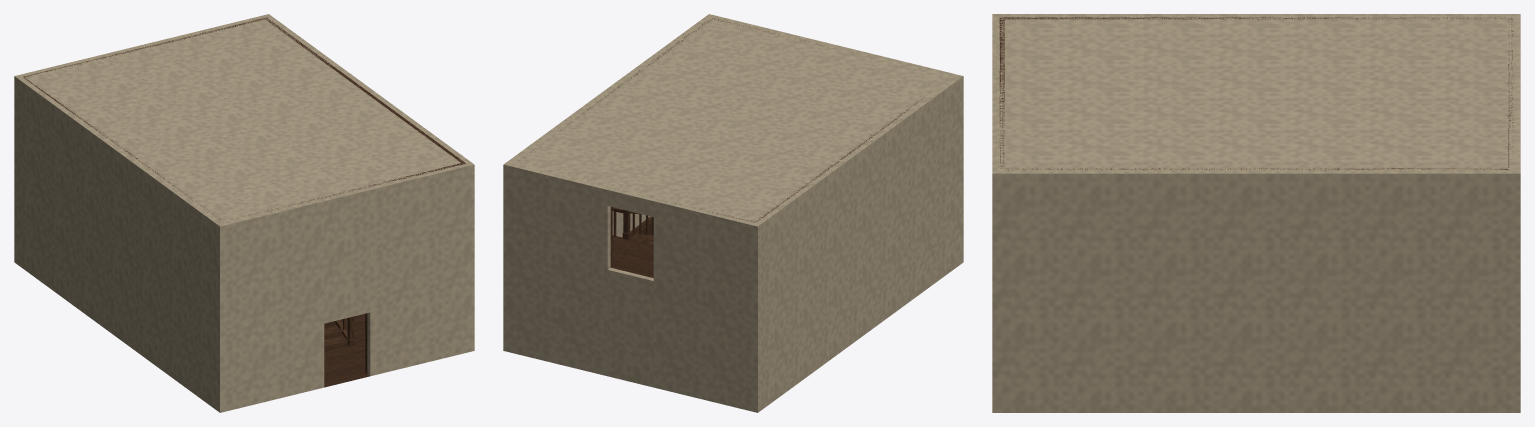
Rendered from Staircase.fbx.
3 renders of one model, left to right at view 1: azimuth 30°, elevation 25°; view 2: azimuth 150°, elevation 25°; view 3: azimuth 270°, elevation 25°, orthographic. The views are drawn at different scales.
Visible parts, largest first — view 1: SM_Staircase.001; view 2: SM_Staircase.001; view 3: SM_Staircase.001.
Part boxes in pixels (x1,y1,x2,y2): SM_Staircase.001: (14,14,474,412); SM_Staircase.001: (503,14,963,412); SM_Staircase.001: (992,14,1520,412).
Size of the model in its own units: 1000 by 700 by 1400.
Materials: 3 (3 with a texture image).
